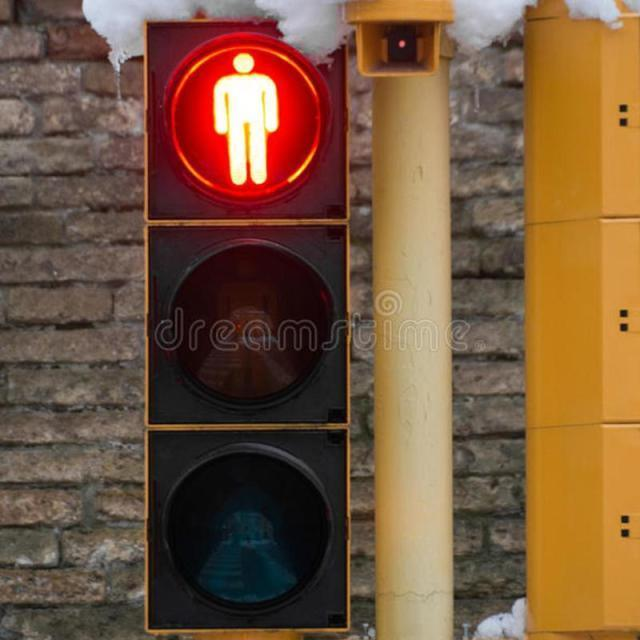red-crossing: (149, 21, 336, 204)
